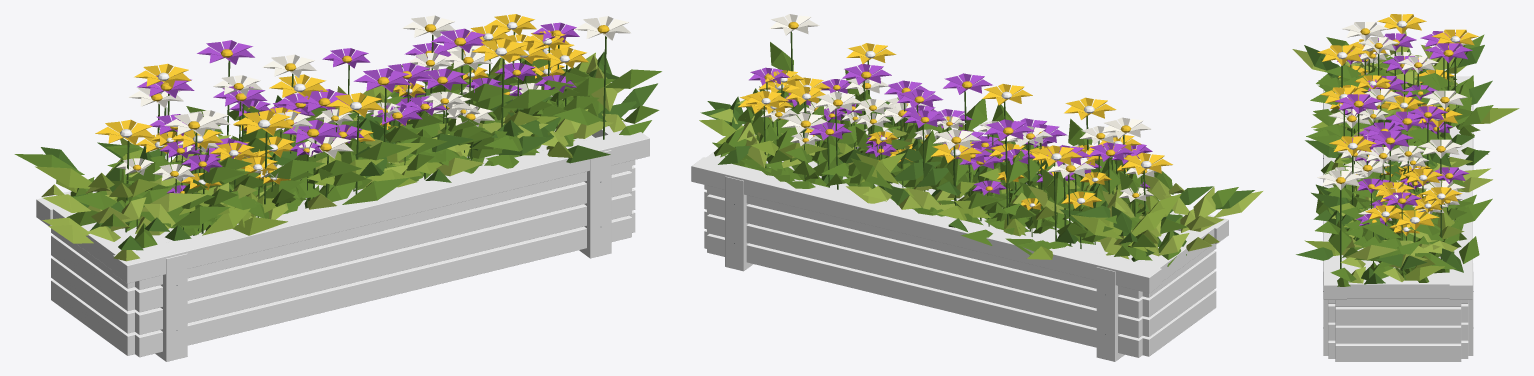
The model's file is 17_long_flower_planter.glb.
3 renders of one model, left to right at view 1: azimuth 30°, elevation 25°; view 2: azimuth 150°, elevation 25°; view 3: azimuth 270°, elevation 25°, orthographic. The views are drawn at different scales.
Parts seen in each view (by area): view 1: 17_long_flower_planter; view 2: 17_long_flower_planter; view 3: 17_long_flower_planter.
Boxes of the visible parts, box(x1,y1,x2,y2) form: 17_long_flower_planter: box(14, 14, 661, 361); 17_long_flower_planter: box(691, 14, 1262, 361); 17_long_flower_planter: box(1292, 14, 1519, 361).
Bounding box in the file's own units: 2.79 × 0.9948 × 1.12.
